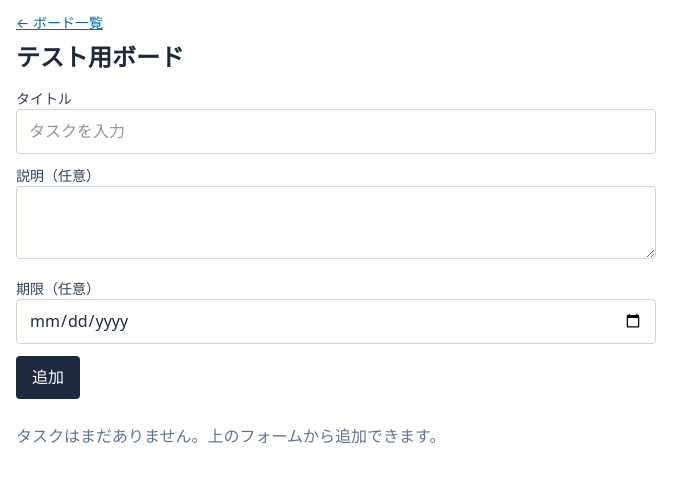
Scenario: 新規タスクのバリデーション › タイトルが空なら、エラーを出して送らない
Expected: the heading "テスト用ボード" is shown, [16,40,184,73]
Click the button "追加" at (48, 378), box [16,356,80,399]
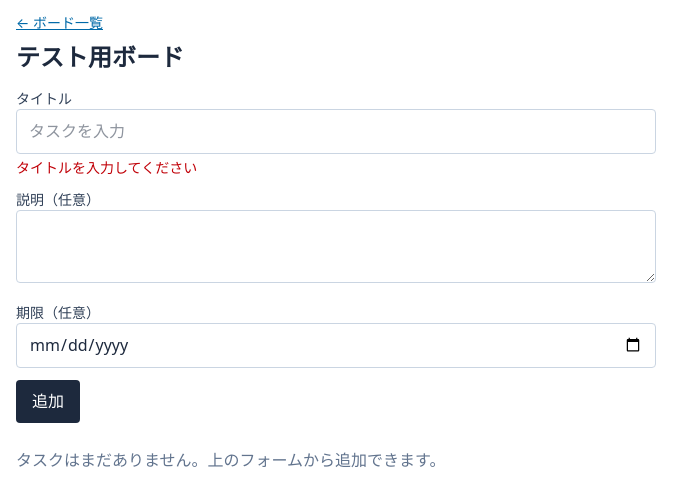
Result: the text "タイトルを入力してください" is shown at [16,158,197,177]
